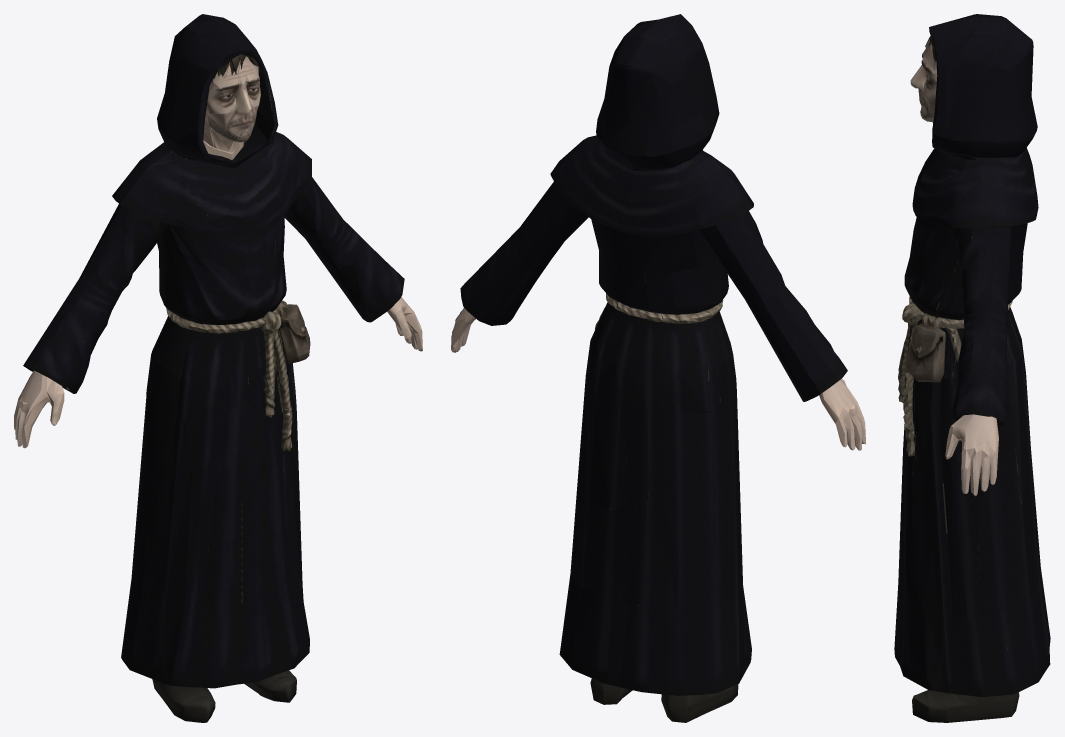
The model's file is MW_DM_Hooded.glb.
3 views of the same model, side by side, from view 1: azimuth 30°, elevation 25°; view 2: azimuth 150°, elevation 25°; view 3: azimuth 270°, elevation 25° (orthographic).
Bounding box in the file's own units: 1.2 × 1.9 × 0.3969.
1 material, 1 textured.
